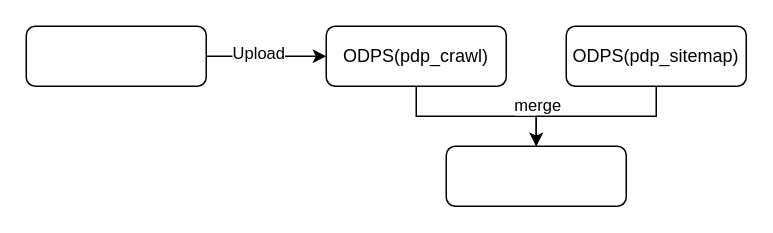
Image size: 773x233. Some labels were removed from this diagram. The centre of each missing label's shape, as x and y in pixels:
botify csv data: the point at 115,55
ODPS (pdp_sitemap_merge): the point at 535,175
